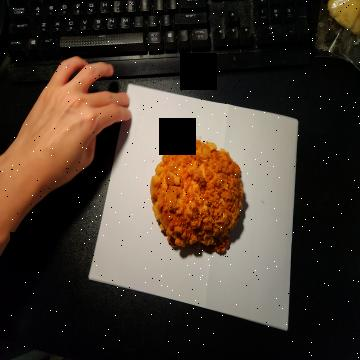soboru_bread: (153, 131, 242, 260)
